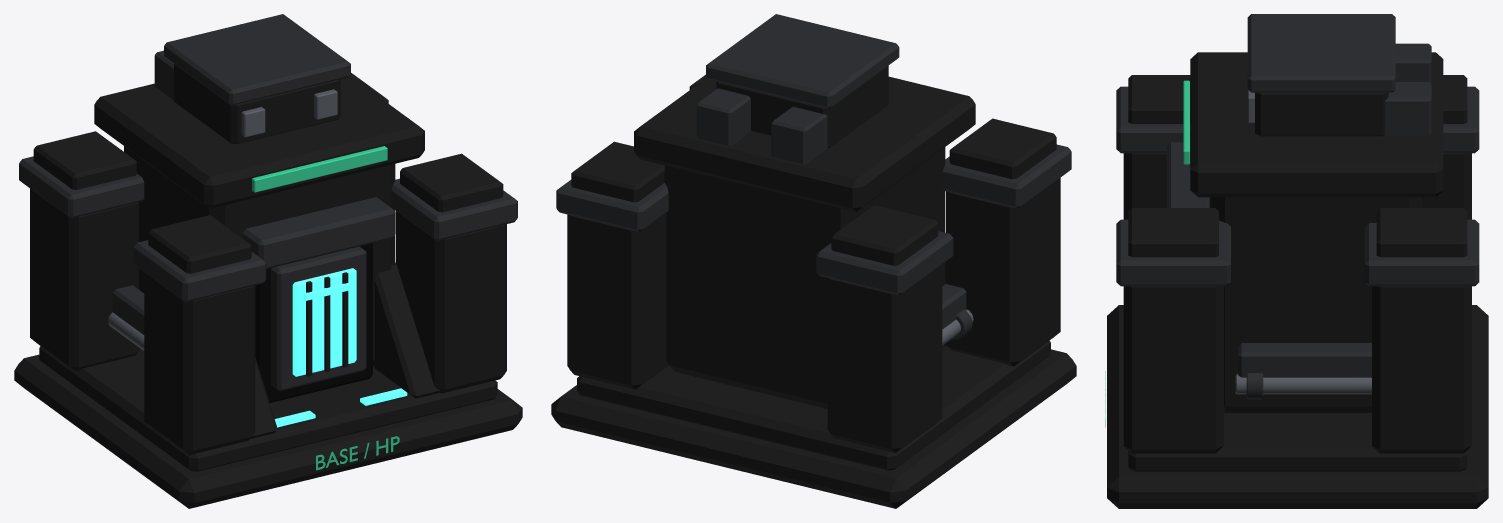
File: player_base.glb
3 views of the same model, side by side, from view 1: azimuth 30°, elevation 25°; view 2: azimuth 150°, elevation 25°; view 3: azimuth 270°, elevation 25° (orthographic). The views are drawn at different scales.
Parts seen in each view (by area): view 1: Base | roof armor slab, Base | lower foundation, Base | corner bastion, Base | corner bastion.001, Base | corner bastion.002, Base | upper foundation, Base | reactor graphite cap, Base | central monolithic keep, Base | gate lintel, Health core | graphite surround, Base | command reactor, Base | sloped front buttress.001 (+19 smaller); view 2: Base | central monolithic keep, Base | roof armor slab, Base | lower foundation, Base | corner bastion.001, Base | corner bastion, Base | upper foundation, Base | corner bastion.003, Base | reactor graphite cap, Base | bastion armor crown.001, Base | bastion armor crown, Base | command reactor, Base | bastion cap.001 (+6 smaller); view 3: Base | central monolithic keep, Base | roof armor slab, Base | lower foundation, Base | corner bastion.002, Base | corner bastion.003, Base | upper foundation, Base | reactor graphite cap, Base | command reactor, Base | side machinery rail.001, Base | bastion armor crown.003, Base | bastion armor crown.002, Base | bastion cap.003 (+13 smaller).
Boxes of the visible parts, x1,y1,x2,y2 form: Base | roof armor slab: (94,76,424,208); Base | lower foundation: (14,354,522,508); Base | corner bastion: (144,272,255,454); Base | corner bastion.001: (30,188,140,371); Base | corner bastion.002: (396,211,506,393); Base | upper foundation: (39,346,497,471); Base | reactor graphite cap: (164,14,350,105); Base | central monolithic keep: (124,146,395,366); Base | gate lintel: (242,197,395,268); Health core | graphite surround: (271,246,366,391); Base | command reactor: (174,64,340,144); Base | sloped front buttress.001: (374,264,441,398); Base | central monolithic keep: (664,147,945,408); Base | roof armor slab: (634,76,975,211); Base | lower foundation: (551,349,1076,508); Base | corner bastion.001: (827,264,942,453); Base | corner bastion: (946,178,1060,366); Base | upper foundation: (577,340,1050,470); Base | corner bastion.003: (567,212,668,389); Base | reactor graphite cap: (706,14,899,108); Base | bastion armor crown.001: (831,205,938,265); Base | bastion armor crown: (949,118,1056,179); Base | command reactor: (716,65,888,147); Base | bastion cap.001: (816,231,953,295); Base | central monolithic keep: (1212,197,1421,412); Base | roof armor slab: (1190,52,1443,197); Base | lower foundation: (1107,305,1488,508); Base | corner bastion.002: (1123,286,1223,453); Base | corner bastion.003: (1372,286,1471,453); Base | upper foundation: (1128,412,1467,471); Base | reactor graphite cap: (1247,14,1395,92); Base | command reactor: (1255,92,1388,136); Base | side machinery rail.001: (1238,343,1371,377); Base | bastion armor crown.003: (1376,208,1467,257); Base | bastion armor crown.002: (1128,208,1218,257); Base | bastion cap.003: (1364,219,1479,286).
Size of the model in its own units: 1.8 by 1.75 by 1.61.
